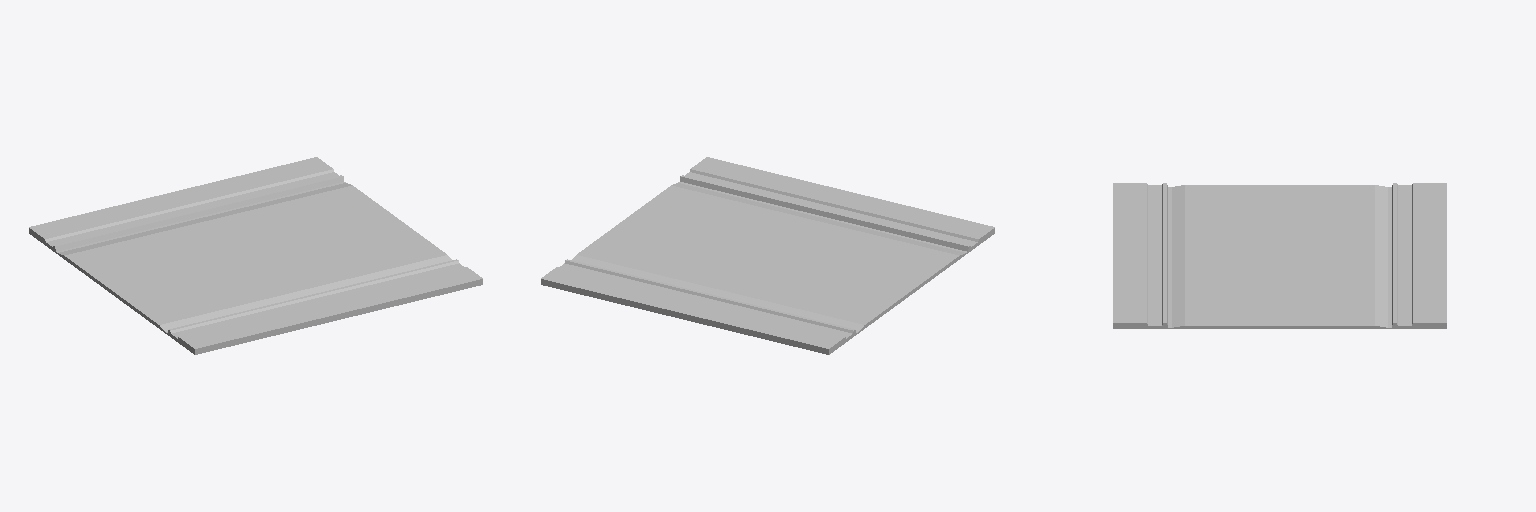
The model's file is testok.obj.
3 views of the same model, side by side, from view 1: azimuth 30°, elevation 25°; view 2: azimuth 150°, elevation 25°; view 3: azimuth 270°, elevation 25° (orthographic).
Parts seen in each view (by area): view 1: Road_2_Lane_Straight; view 2: Road_2_Lane_Straight; view 3: Road_2_Lane_Straight.
Part boxes in pixels (x1,y1,x2,y2): Road_2_Lane_Straight: (29,157,482,354); Road_2_Lane_Straight: (541,157,994,354); Road_2_Lane_Straight: (1113,183,1446,328).
Bounding box in the file's own units: 3600 × 72 × 3600.